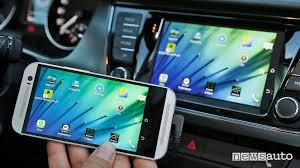Hand: (42, 139, 168, 168)
Smartphone: (22, 61, 166, 160)
